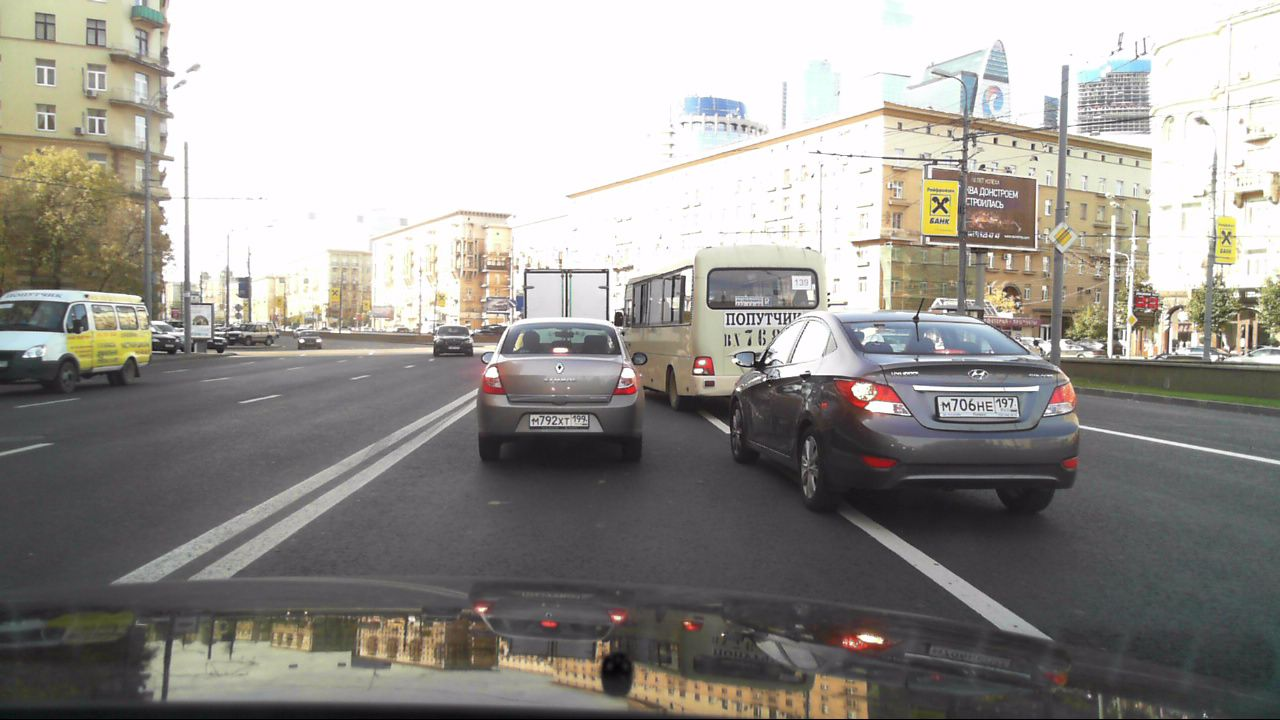main road: (1047, 222, 1079, 255)
